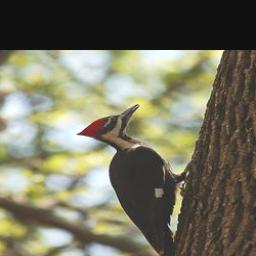Woodpecker: (77, 103, 207, 256)
